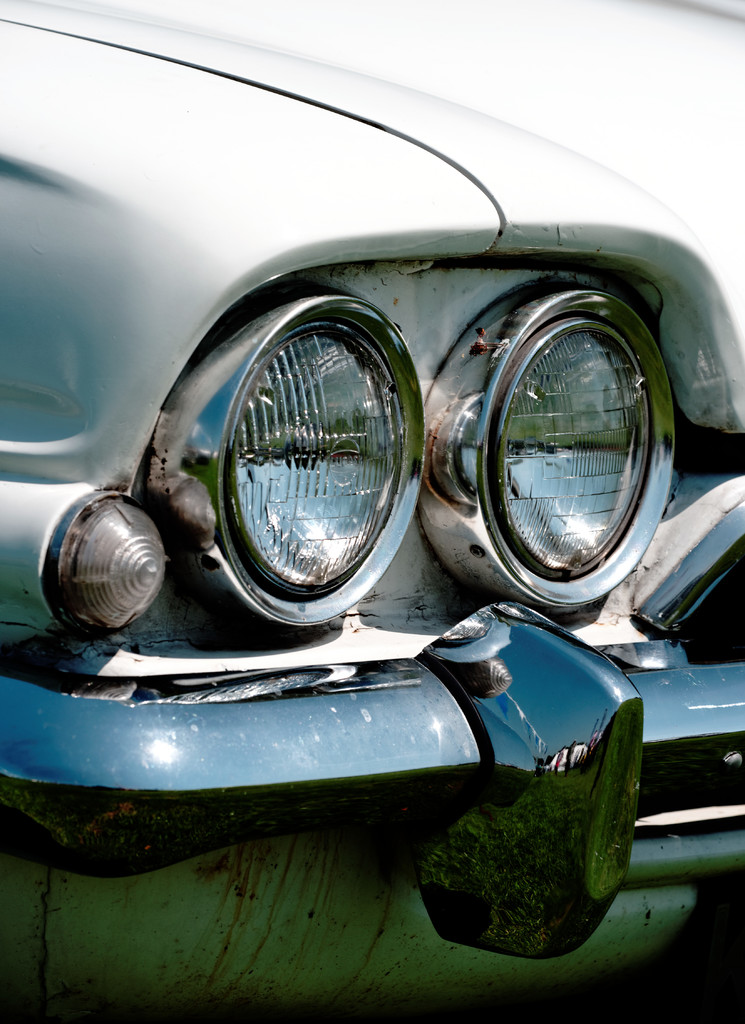Car: (0, 0, 744, 1022)
